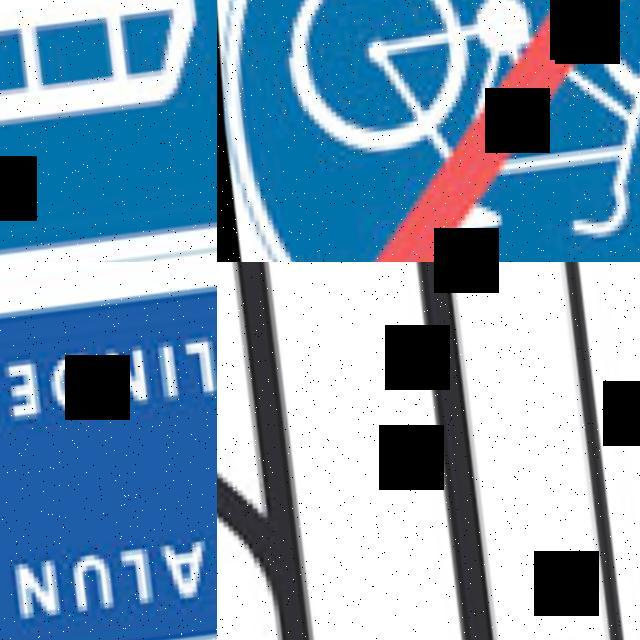112: (217, 0, 640, 262)
169: (217, 262, 640, 640)
83: (0, 267, 217, 640)
Bus stop: (0, 0, 217, 262)
